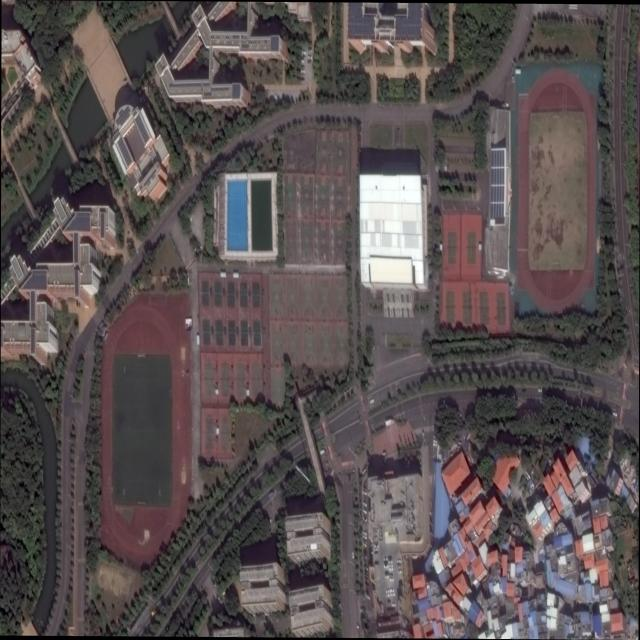small-vehicle: (365, 594, 370, 601), (363, 517, 368, 523), (362, 490, 367, 496), (612, 412, 618, 417), (362, 502, 367, 507), (300, 59, 305, 64), (363, 538, 367, 544), (363, 542, 367, 548), (352, 551, 355, 559), (433, 439, 438, 443), (370, 399, 374, 404), (366, 590, 370, 595), (363, 510, 367, 515), (363, 486, 367, 491), (308, 59, 312, 64), (363, 535, 367, 540), (363, 531, 367, 536), (386, 593, 391, 597), (386, 589, 390, 594), (384, 564, 388, 569), (374, 544, 379, 548), (388, 560, 392, 564), (389, 567, 393, 571), (397, 563, 401, 567), (308, 47, 312, 51), (308, 55, 312, 59), (538, 388, 542, 392), (390, 589, 394, 593), (391, 593, 395, 597), (392, 603, 396, 607), (385, 575, 389, 579), (385, 571, 389, 575), (384, 557, 388, 561), (388, 556, 392, 560), (388, 564, 393, 567), (300, 66, 305, 69), (300, 70, 305, 73), (374, 548, 379, 551), (433, 443, 437, 446), (397, 560, 401, 563), (389, 575, 393, 578), (302, 51, 306, 54), (398, 570, 402, 573), (390, 578, 393, 582), (387, 600, 391, 603), (384, 562, 388, 565), (375, 562, 379, 565), (375, 551, 379, 554)
